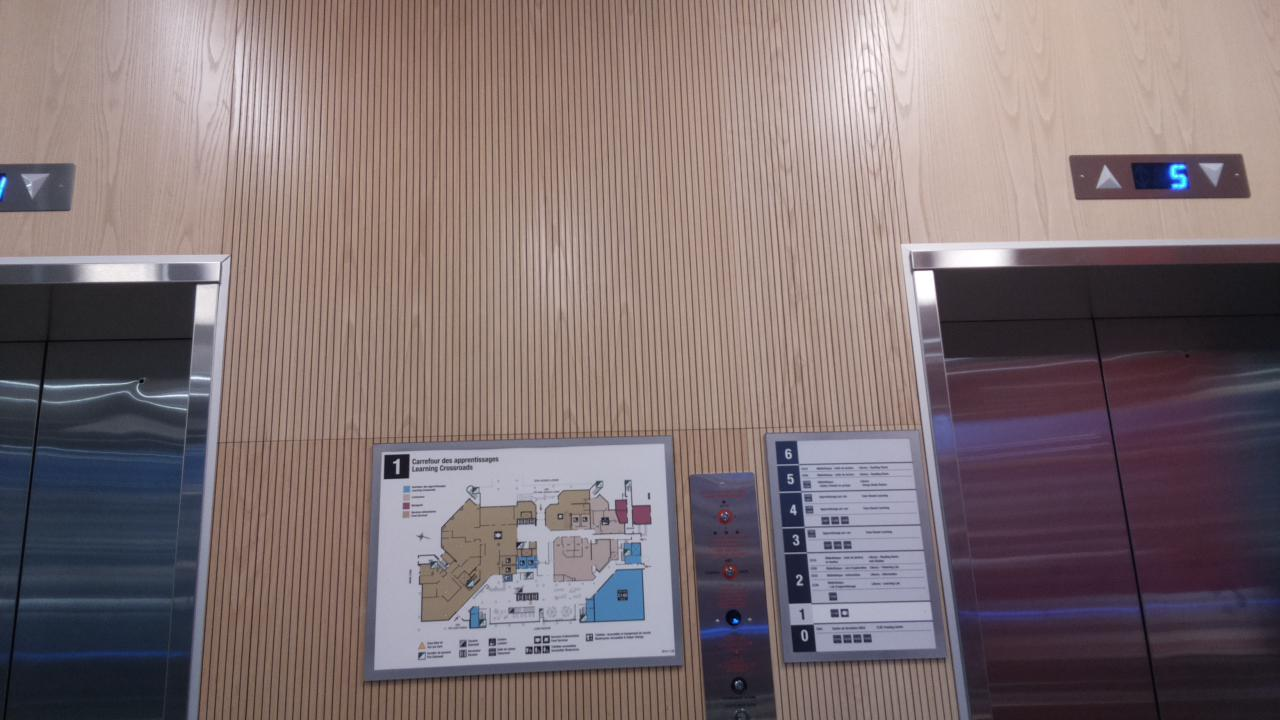sign: (364, 435, 686, 679), (766, 431, 945, 661)
